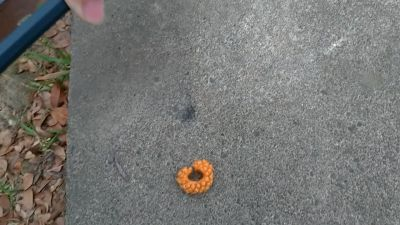eggs: (175, 158, 216, 198)
